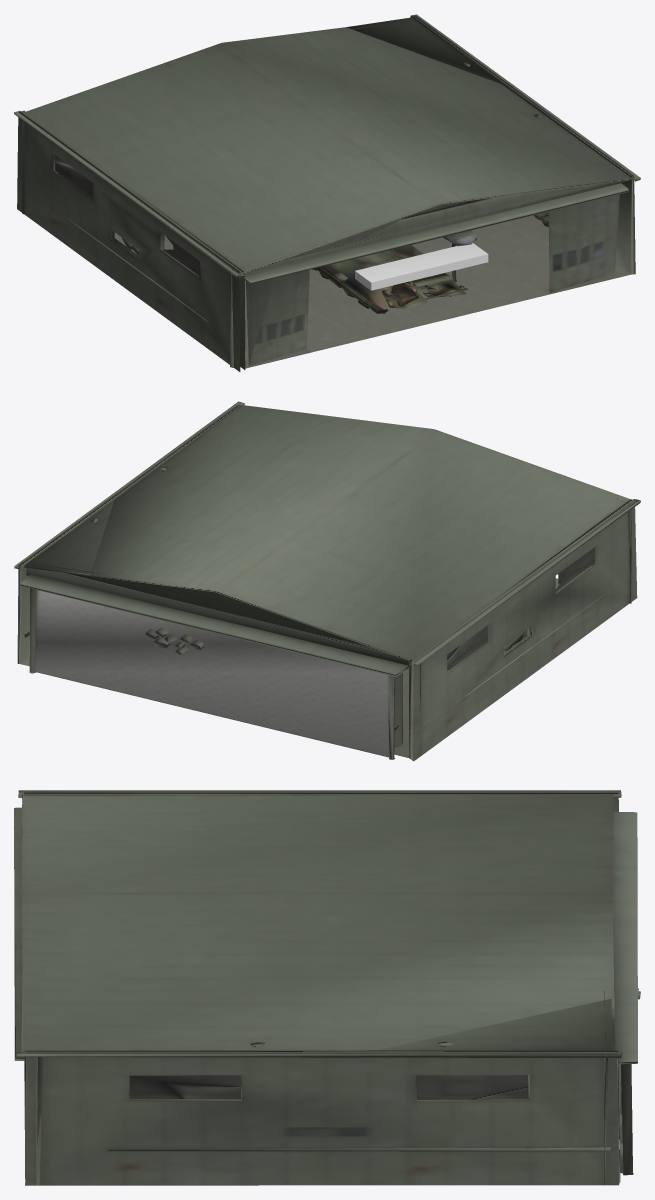
File: cn-vehicle-factory.glb
3 views of the same model, one above another, from view 1: azimuth 30°, elevation 25°; view 2: azimuth 150°, elevation 25°; view 3: azimuth 270°, elevation 25° (orthographic). The views are drawn at different scales.
Parts seen in each view (by area): view 1: cn-vehicle-factory; view 2: cn-vehicle-factory; view 3: cn-vehicle-factory.
Part boxes in pixels (x1,y1,x2,y2): cn-vehicle-factory: (14,14,640,371); cn-vehicle-factory: (14,401,640,761); cn-vehicle-factory: (14,790,640,1185).
Bounding box in the file's own units: 3.44 × 0.99 × 3.44.
2 materials, 1 textured.
